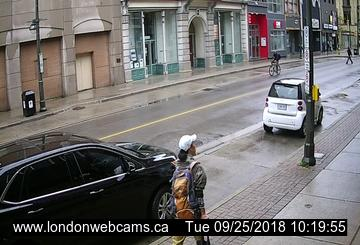Car: (1, 124, 175, 245), (262, 78, 326, 136)
person: (169, 132, 214, 245), (344, 45, 355, 66)
riding bicycle: (267, 50, 285, 77)
